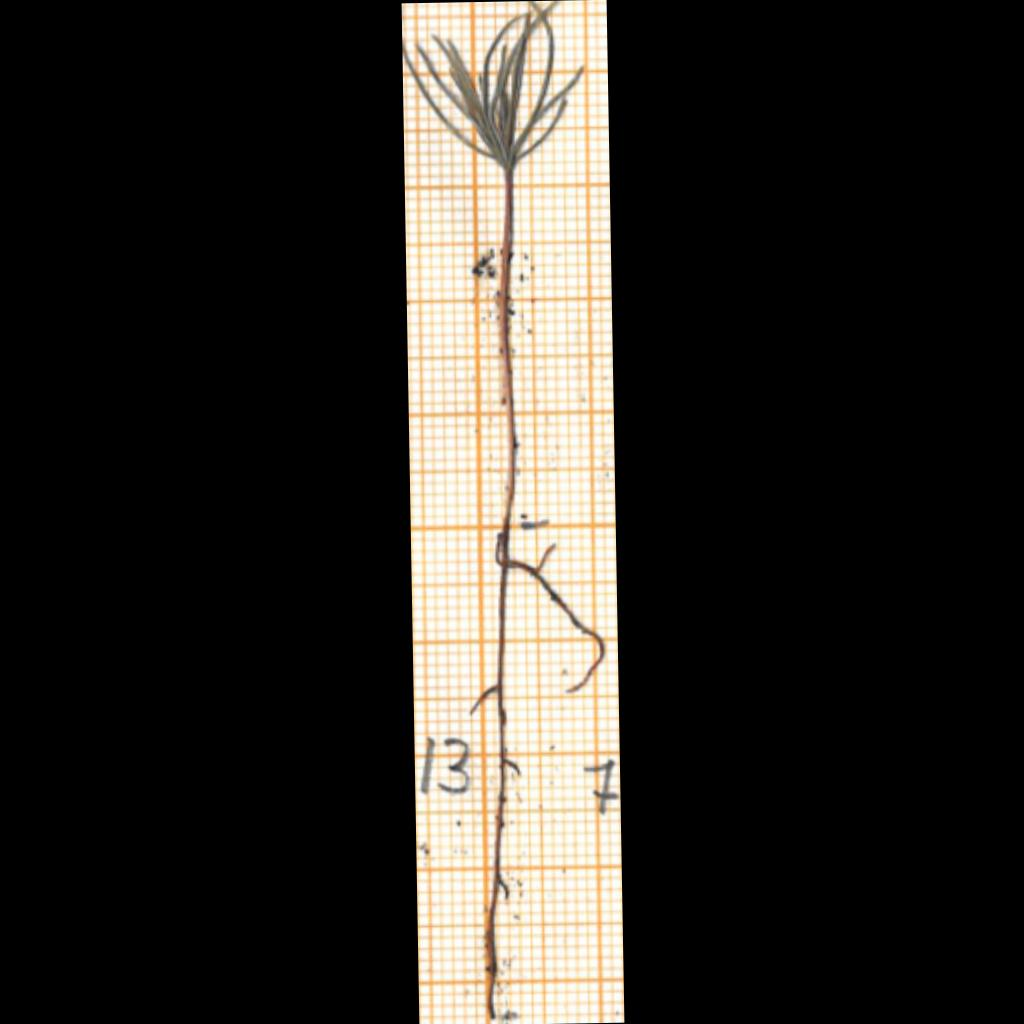flowerPinus: (405, 1, 583, 174)
rootPinus: (473, 533, 603, 1018)
stemPinus: (500, 174, 515, 520)
